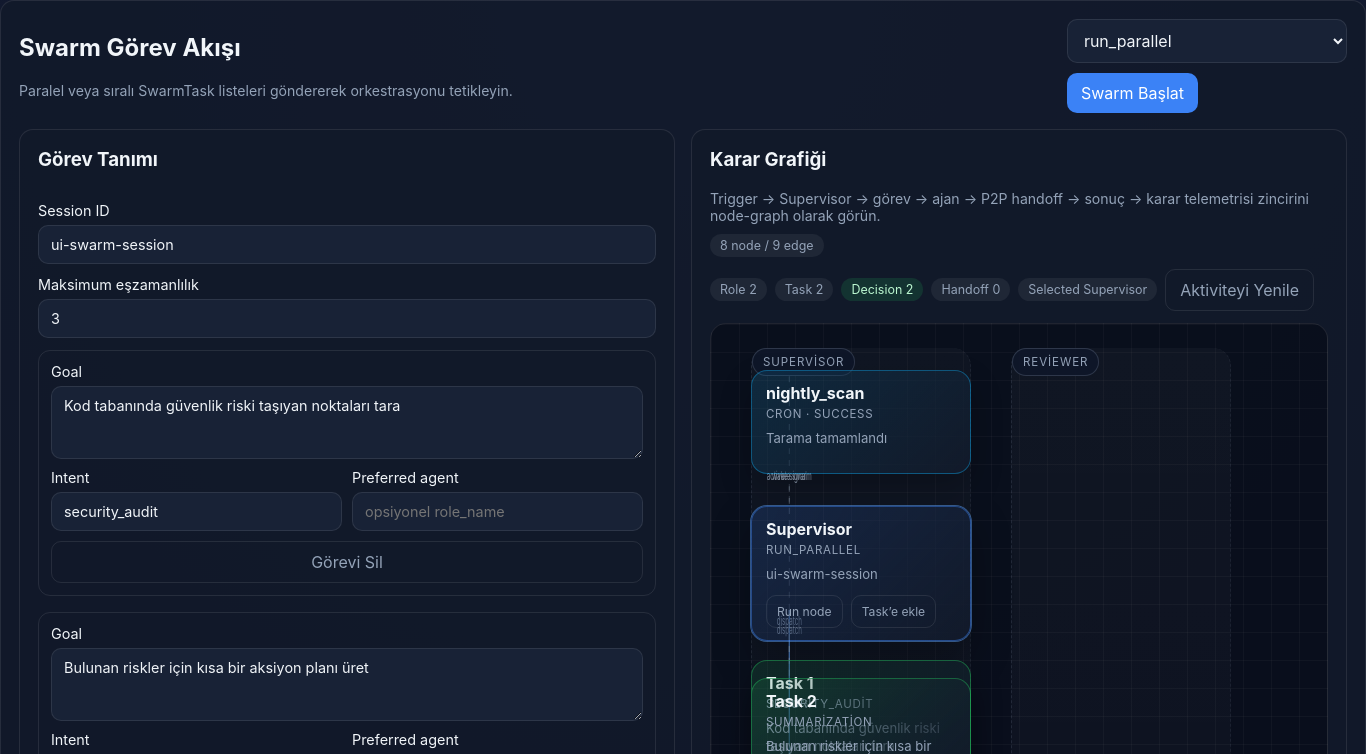
it: SwarmFlowPanel › loads autonomy activity and pending approvals, then refreshes activity on demand
Expected: the text "nightly_scan" is shown, [766,383,864,403]
Select "run_pipeline" in the dropdown at (1207, 41), box [1067,19,1347,63]
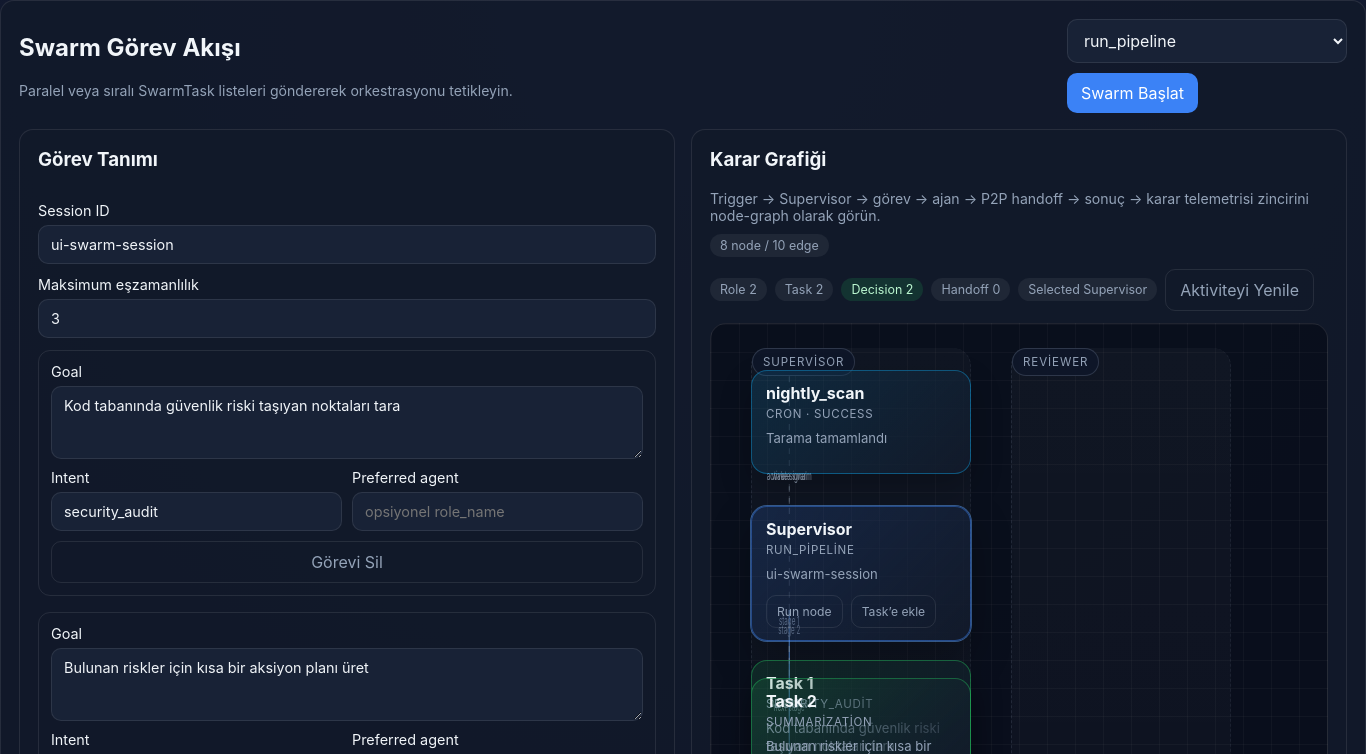
Select "run_parallel" in the dropdown at (1207, 41), box [1067,19,1347,63]
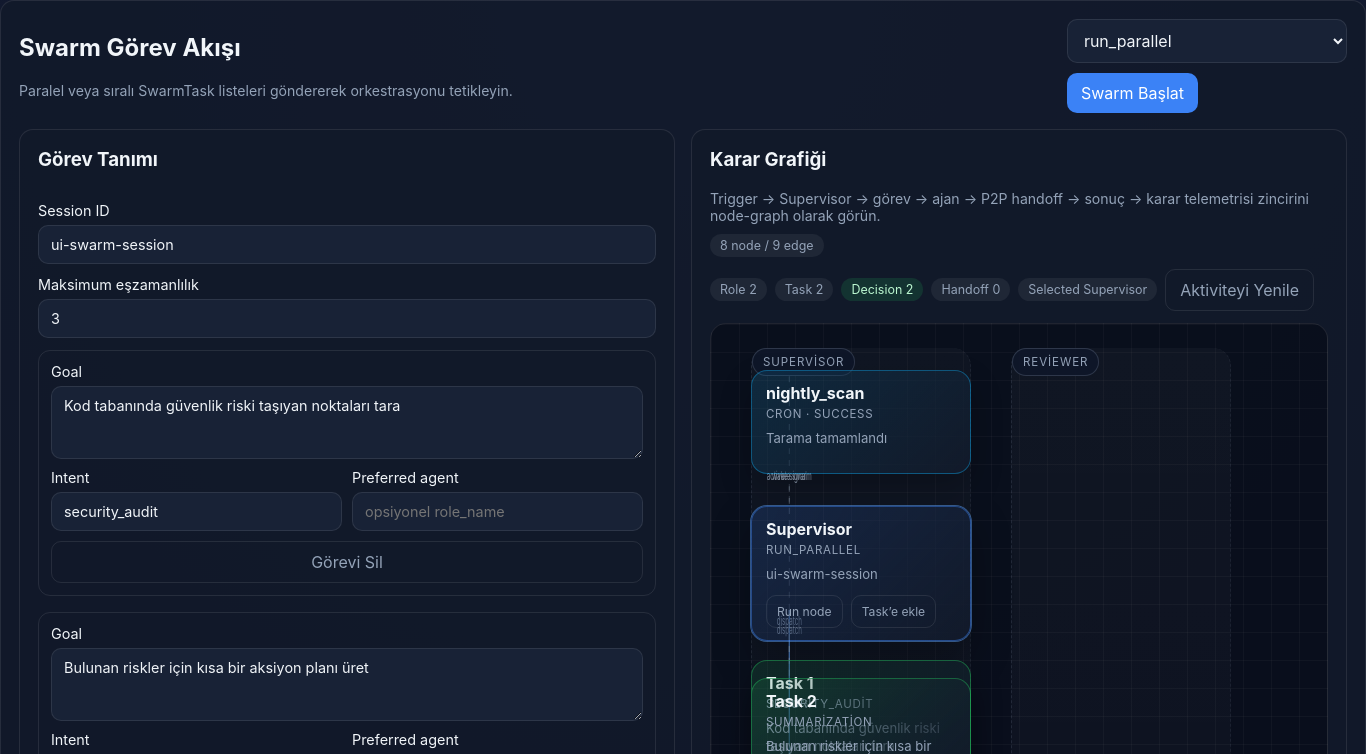
Click the button "Aktiviteyi Yenile" at (1240, 290), box [1165,269,1314,311]
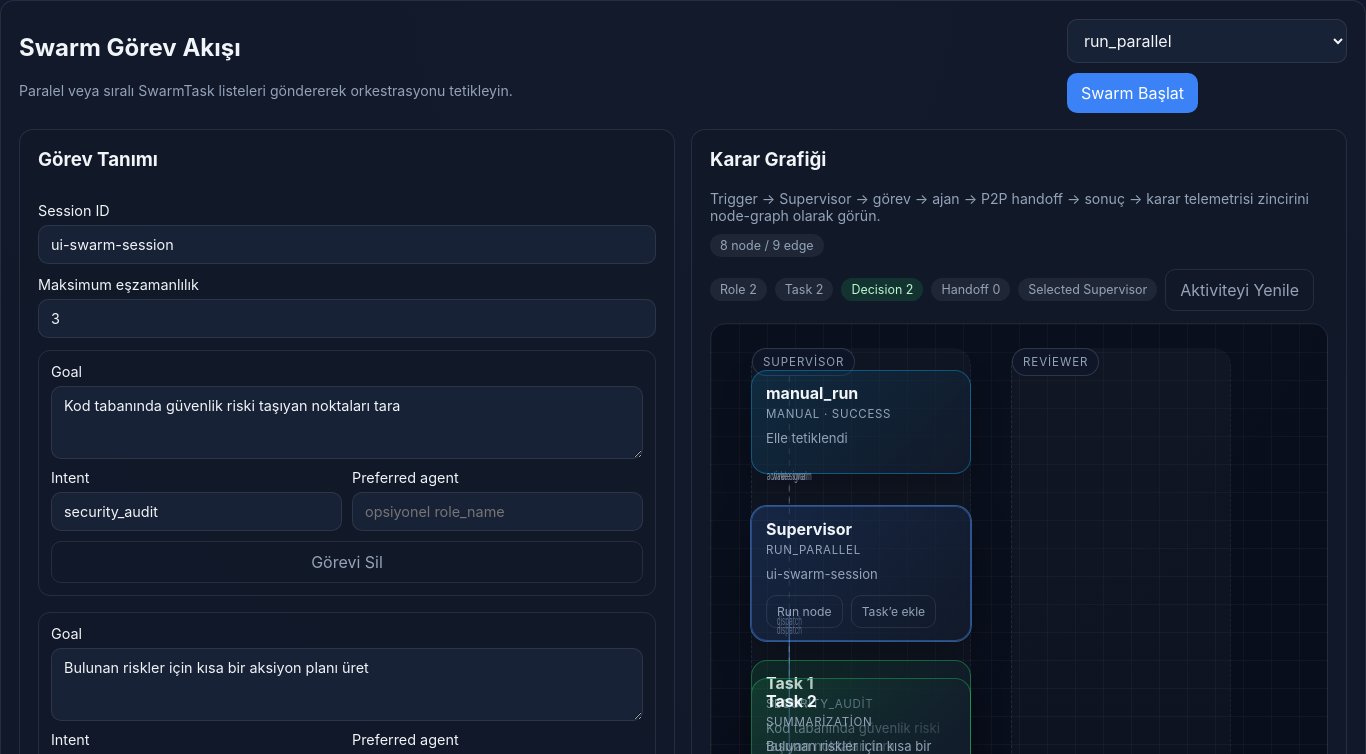
Result: the text "manual_run" is shown at [766,383,858,403]
